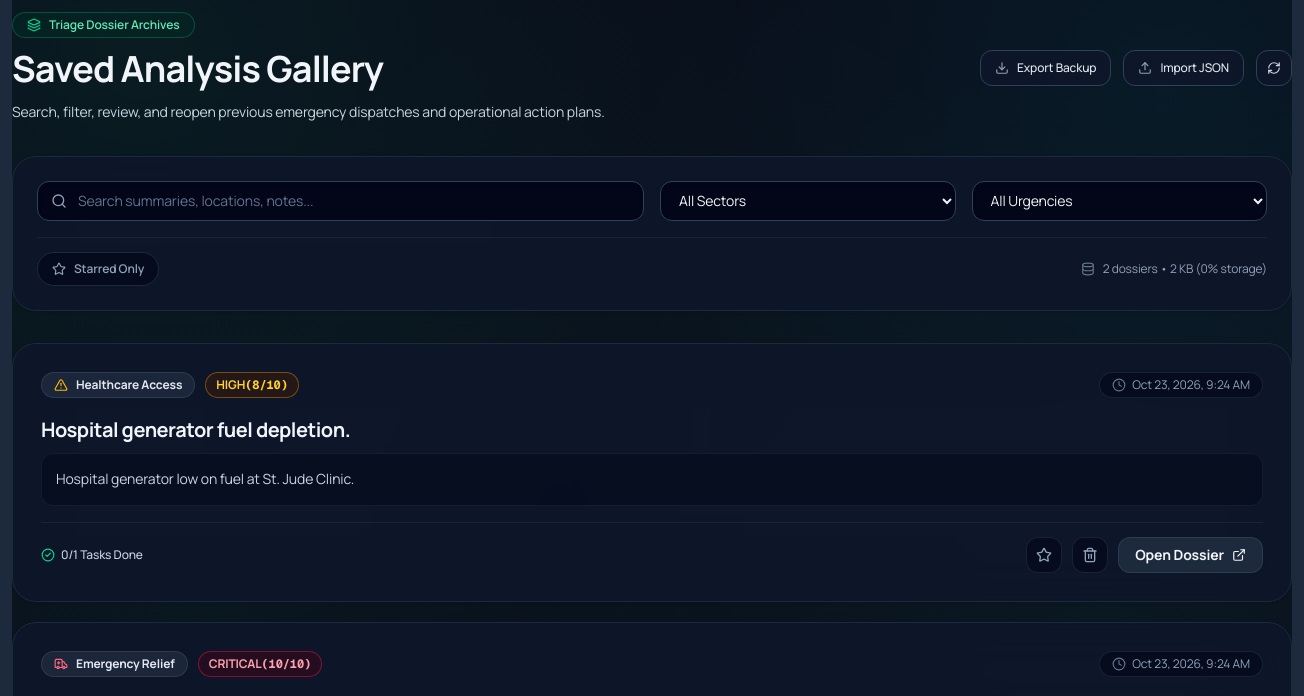
it: HistorySection Component › filters items by search term
This screenshot has width=1304, height=696.
In the field with placeholder "Search summaries, locations, notes...": (340, 201) [37,181,644,221], type "Ridge"
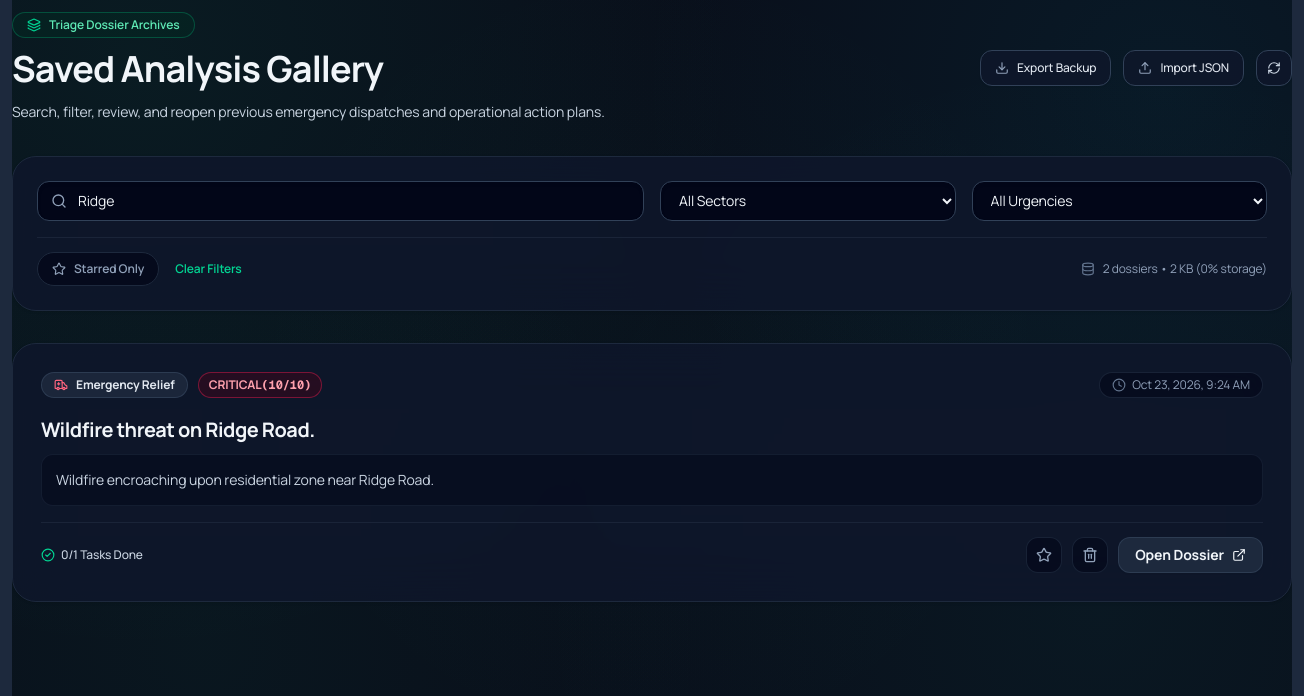
Expected: the heading "Wildfire threat on Ridge Road." is shown, [41,416,315,443]
Result: the heading "Hospital generator fuel depletion." is gone
